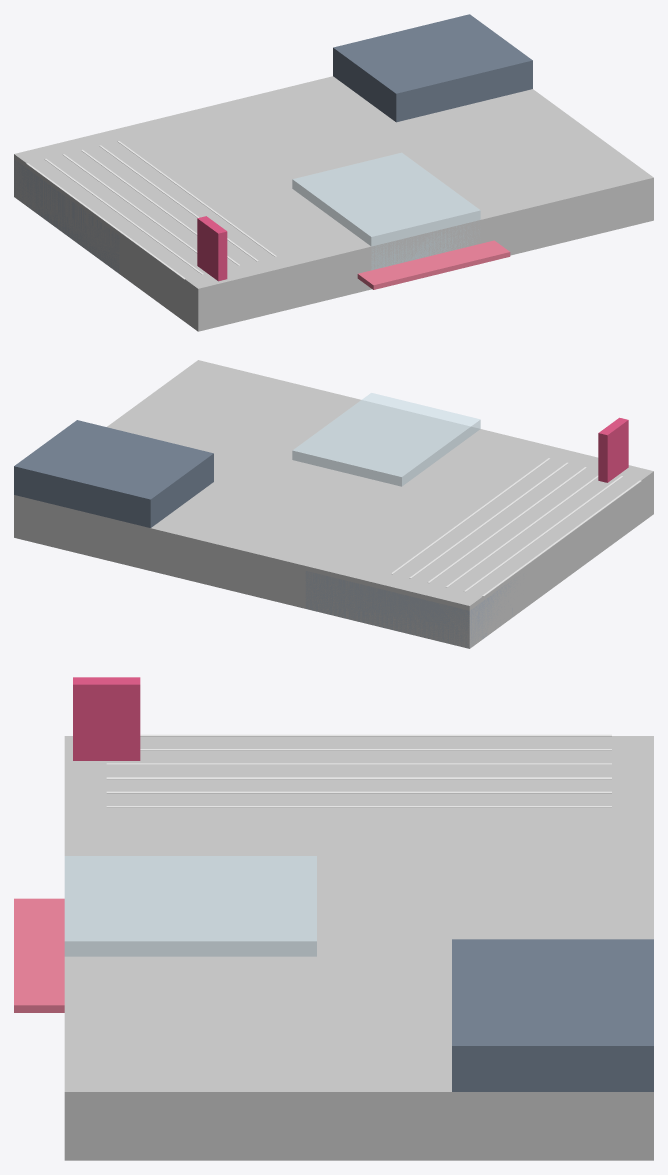
File: grand_mall.gltf
3 renders of one model, top to bottom at view 1: azimuth 30°, elevation 25°; view 2: azimuth 150°, elevation 25°; view 3: azimuth 270°, elevation 25°, orthographic. The views are drawn at different scales.
Bounding box in the file's own units: 501 × 95 × 380.
